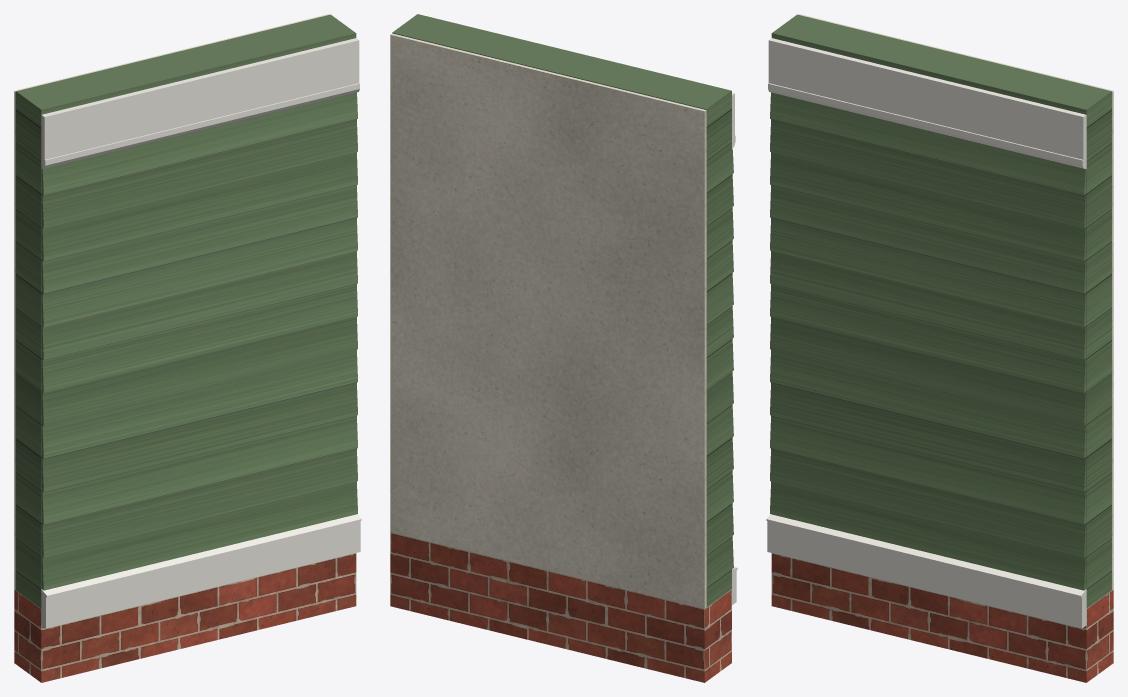
The model's file is wall_siding_plain.glb.
3 renders of one model, left to right at view 1: azimuth 30°, elevation 25°; view 2: azimuth 150°, elevation 25°; view 3: azimuth 330°, elevation 25°, orthographic.
Parts seen in each view (by area): view 1: wall_siding_plain_siding, wall_siding_plain_trim, wall_siding_plain_brick, wall_siding_plain_plaster; view 2: wall_siding_plain_plaster, wall_siding_plain_brick, wall_siding_plain_siding; view 3: wall_siding_plain_siding, wall_siding_plain_trim, wall_siding_plain_brick, wall_siding_plain_plaster.
Boxes of the visible parts, x1,y1,x2,y2 form: wall_siding_plain_siding: (16, 14, 357, 608); wall_siding_plain_trim: (41, 38, 361, 628); wall_siding_plain_brick: (14, 553, 356, 682); wall_siding_plain_plaster: (14, 14, 329, 589); wall_siding_plain_plaster: (390, 33, 706, 608); wall_siding_plain_brick: (390, 532, 731, 682); wall_siding_plain_siding: (392, 14, 733, 606); wall_siding_plain_siding: (770, 14, 1111, 608); wall_siding_plain_trim: (766, 38, 1086, 628); wall_siding_plain_brick: (771, 553, 1113, 682); wall_siding_plain_plaster: (798, 14, 1113, 589).
Bounding box in the file's own units: 2 × 3.48 × 0.362.
Materials: 4 (3 with a texture image).
